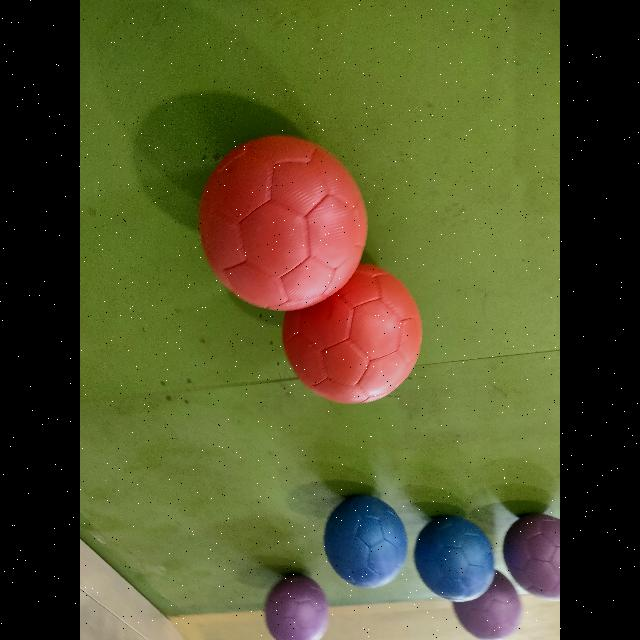B: (324, 496, 408, 588), (415, 516, 495, 602)
P: (504, 514, 560, 600), (456, 568, 522, 640), (265, 576, 329, 640)
R: (200, 137, 366, 311), (280, 262, 428, 404)
